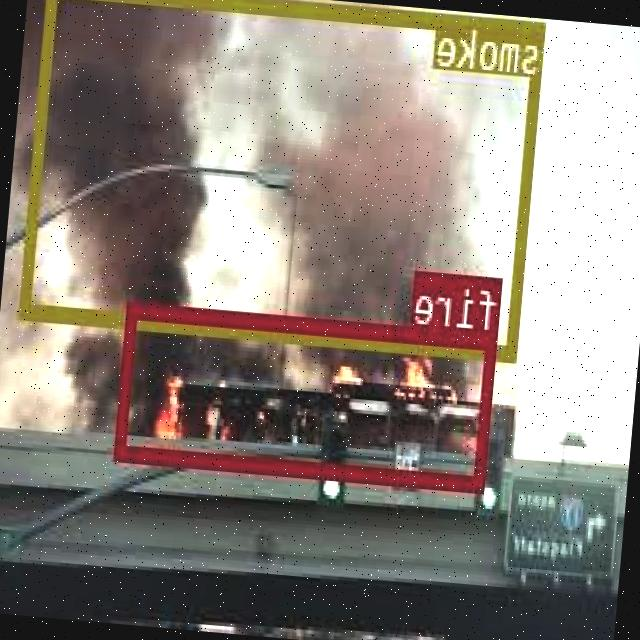fire: (117, 301, 500, 489)
smoke: (22, 0, 547, 357)
